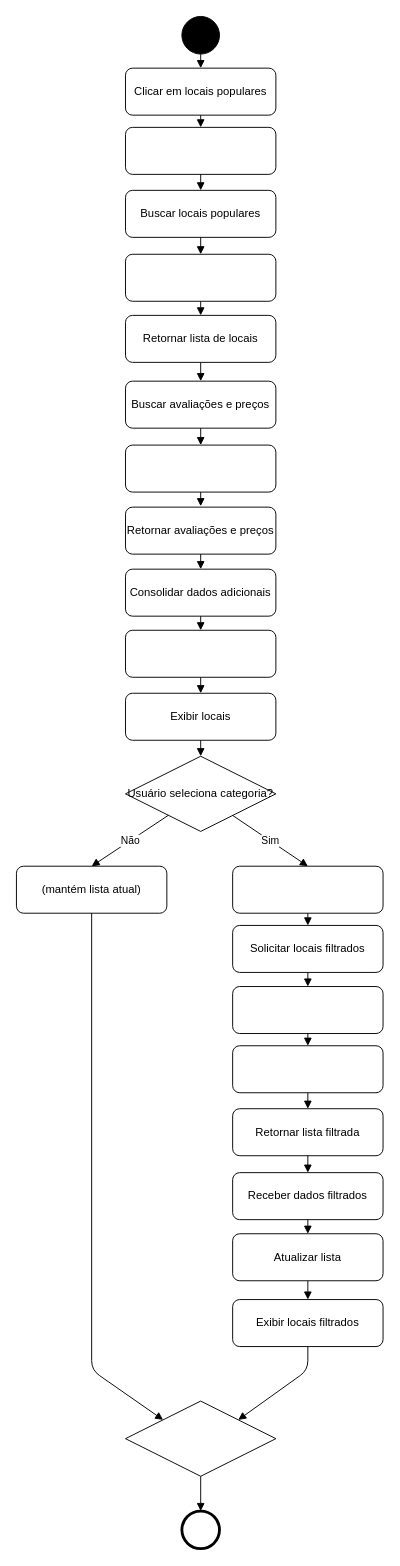
This 400x1566 diagram has some shape labels left out. The shapes that lost their labels are listed below. From the top down, each one's centre as x and y in pixels, then its label:
pixel 200 150: Solicitar locais
pixel 200 277: Buscar locais no banco
pixel 200 468: Buscar dados no banco
pixel 200 653: Renderizar locais
pixel 307 889: Selecionar categoria
pixel 307 1010: Buscar por categoria
pixel 307 1069: Buscar locais filtrados no banco
